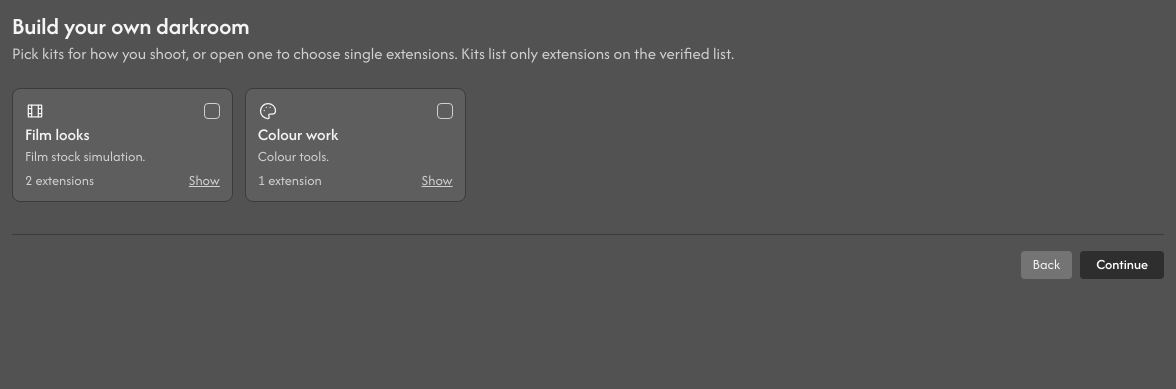
Test: KitsStep › leaves out extensions that aren't on the verified list
Expected: the checkbox labelled "Film looks" is shown, x1=25 y1=101 x2=220 y2=165
Click the button with aria-label "Show Colour work extensions": (437, 181) x1=422 y1=173 x2=453 y2=189
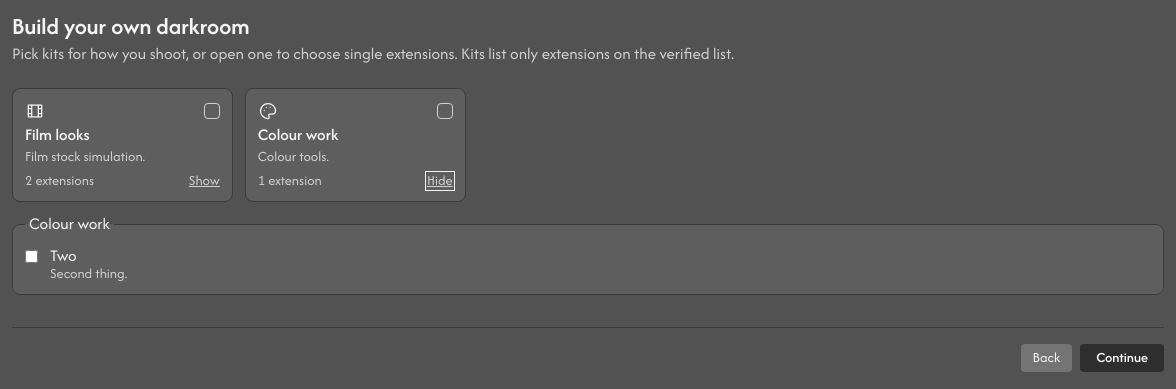
Now the checkbox labelled "Two Second thing." is shown, box x1=25 y1=250 x2=38 y2=263
